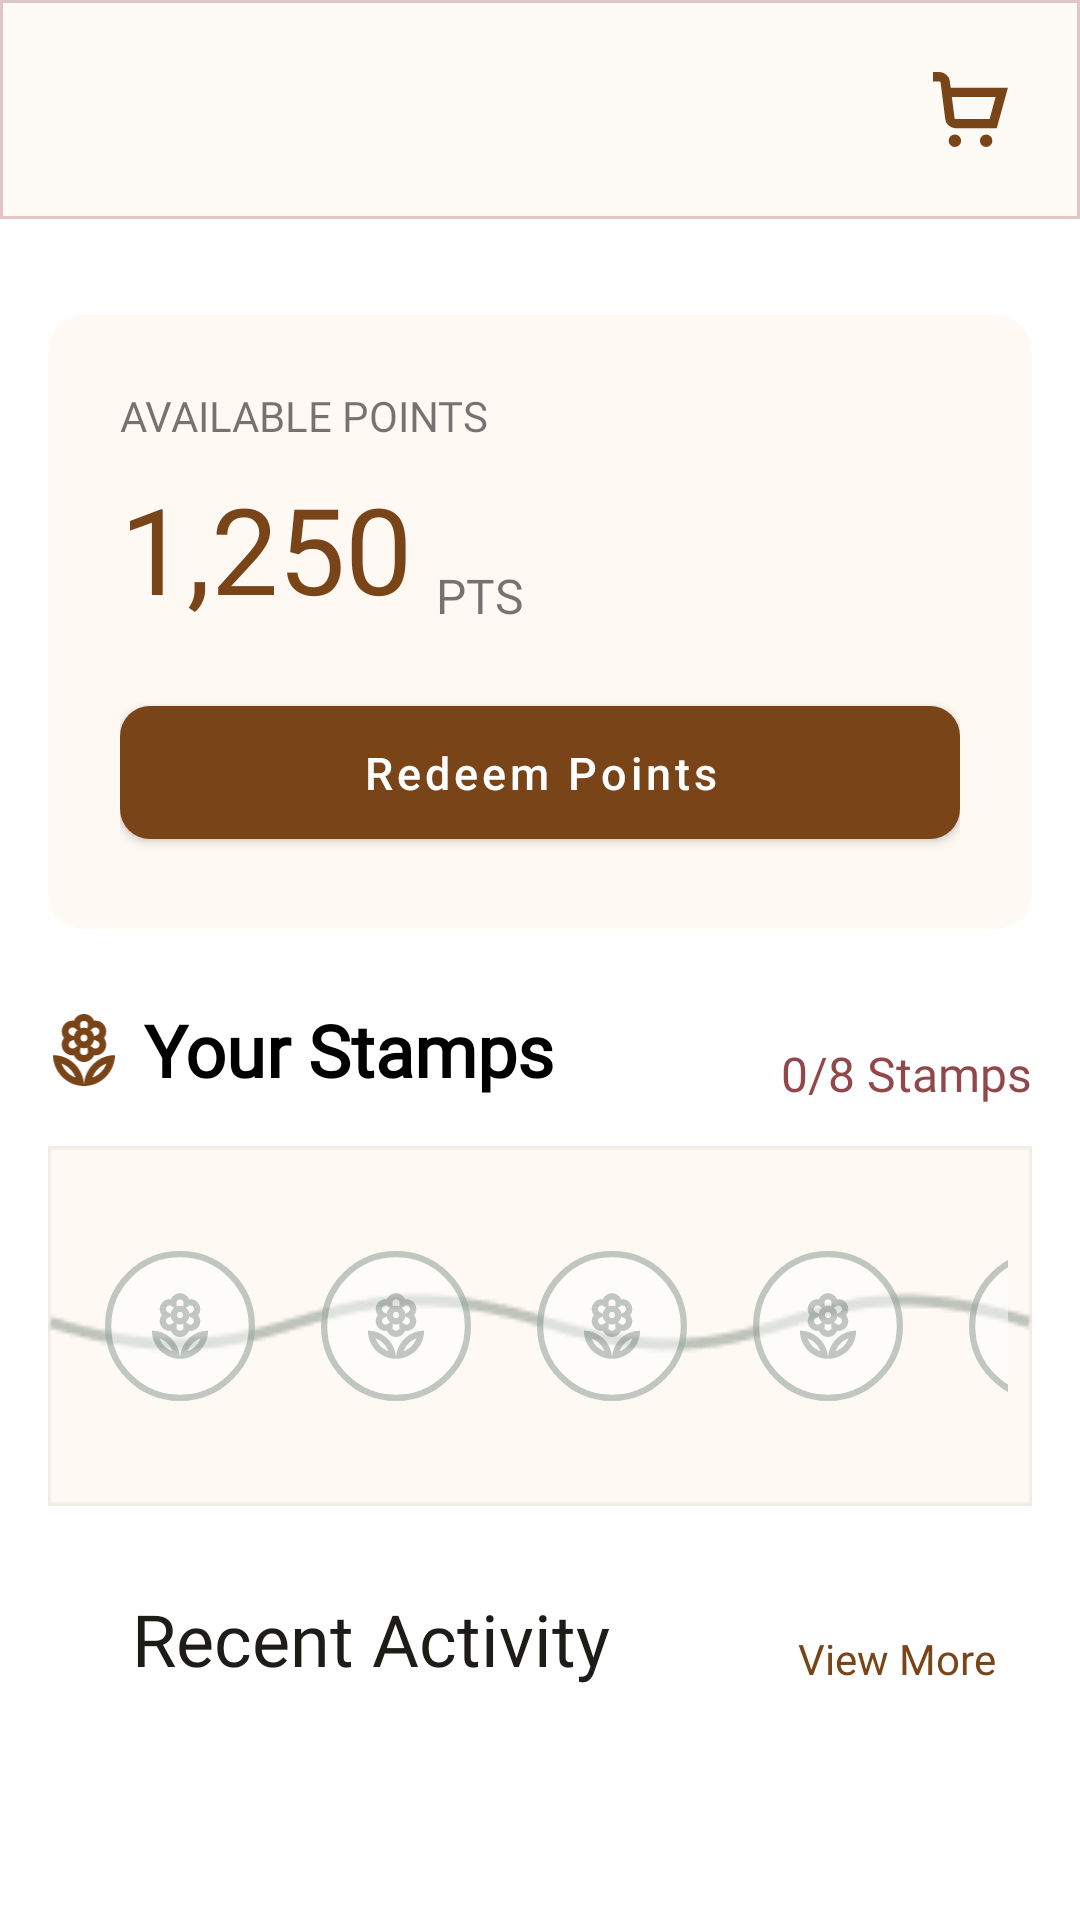

Icons on this 1080w x 1920h Android screen, each with the point to tap as (x,y):
cart: (970,109)
